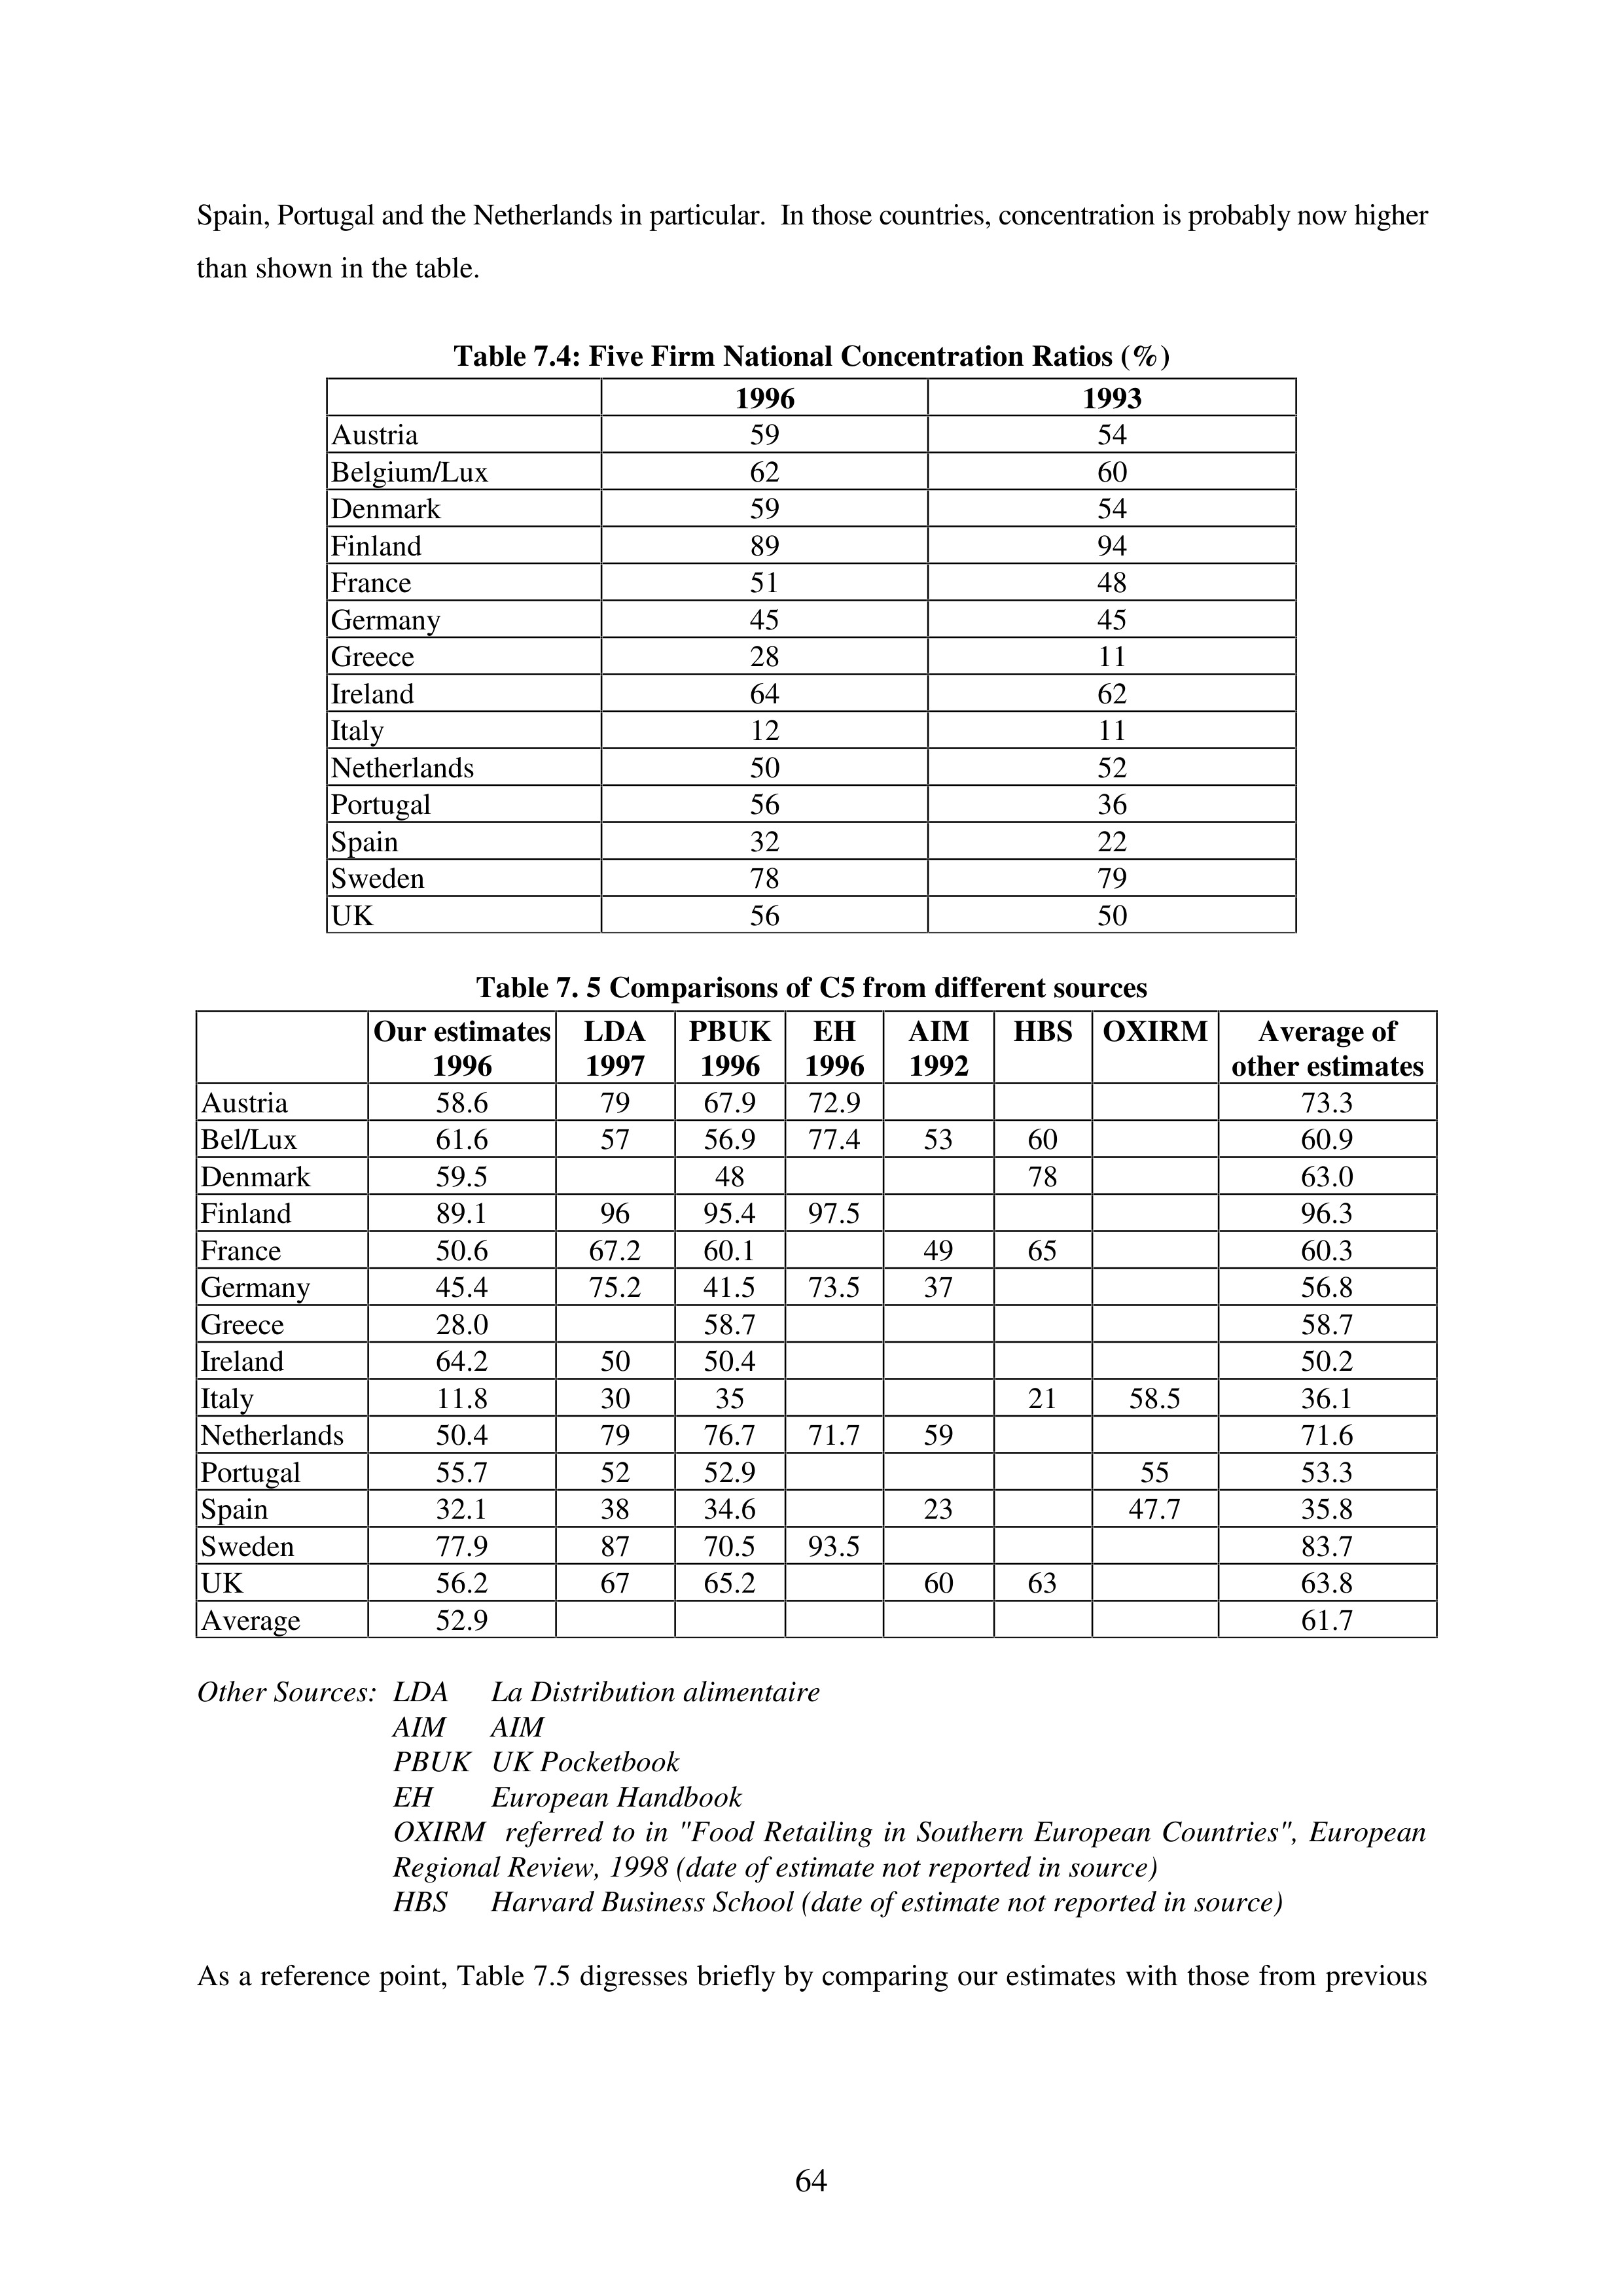table: (200, 1009, 1425, 1638), (330, 377, 1143, 934)
